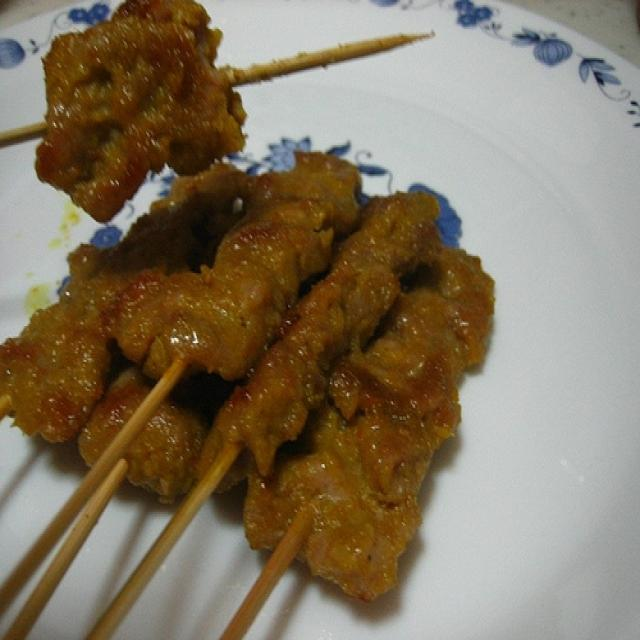牛肉菜式: (11, 17, 612, 632)
